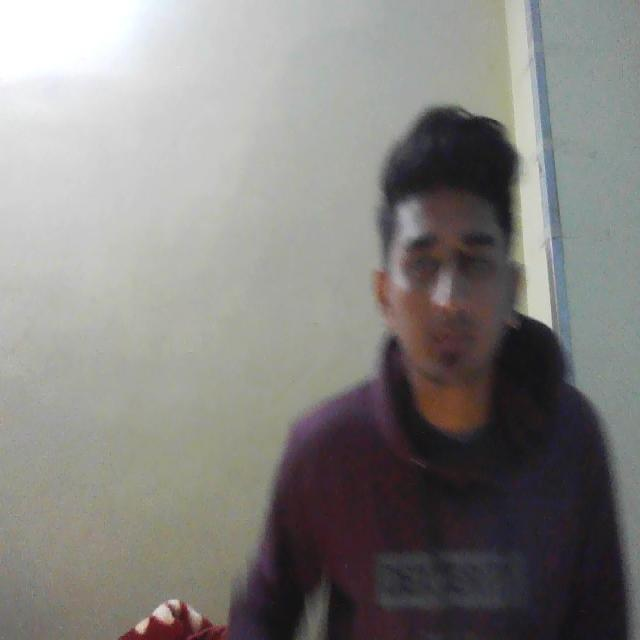real: (370, 107, 538, 424)
